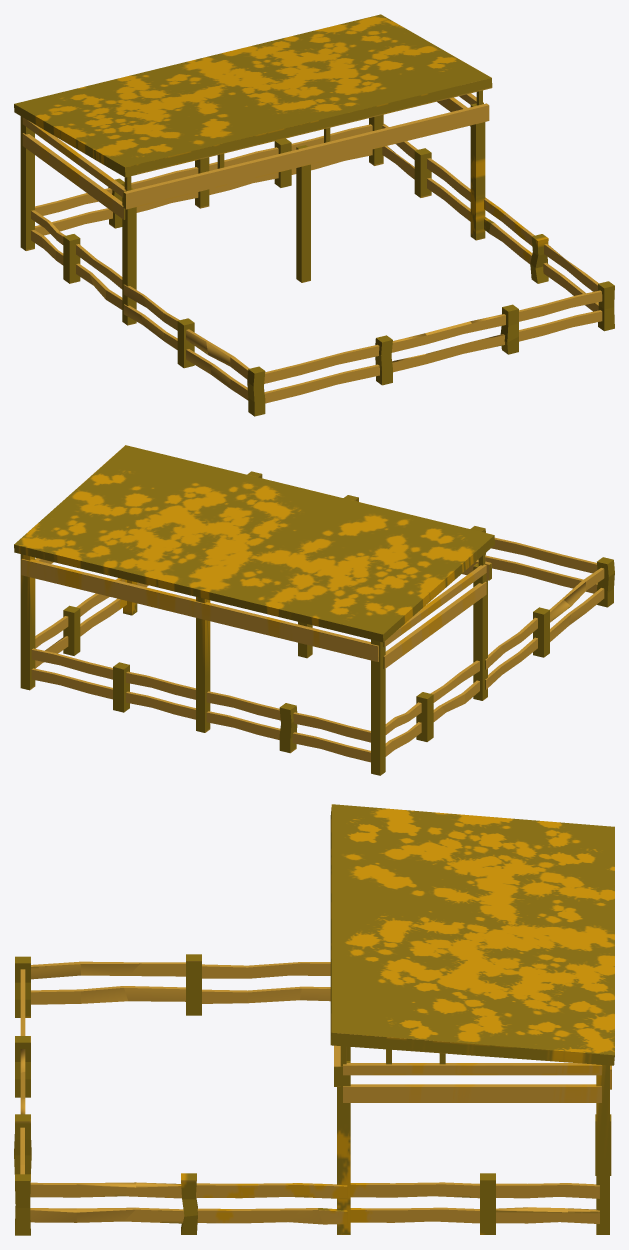
Rendered from stable_texture.fbx.
The picture shows the model from 3 angles, top to bottom: view 1: azimuth 30°, elevation 25°; view 2: azimuth 150°, elevation 25°; view 3: azimuth 270°, elevation 25°; orthographic projection. The views are drawn at different scales.
Visible parts, largest first — view 1: Cube.029; view 2: Cube.029; view 3: Cube.029.
Part boxes in pixels (bbox=[...]): Cube.029: bbox=[14, 14, 614, 416]; Cube.029: bbox=[14, 445, 614, 775]; Cube.029: bbox=[14, 804, 614, 1235].
Bounding box in the file's own units: 7969 × 3338 × 8857.
